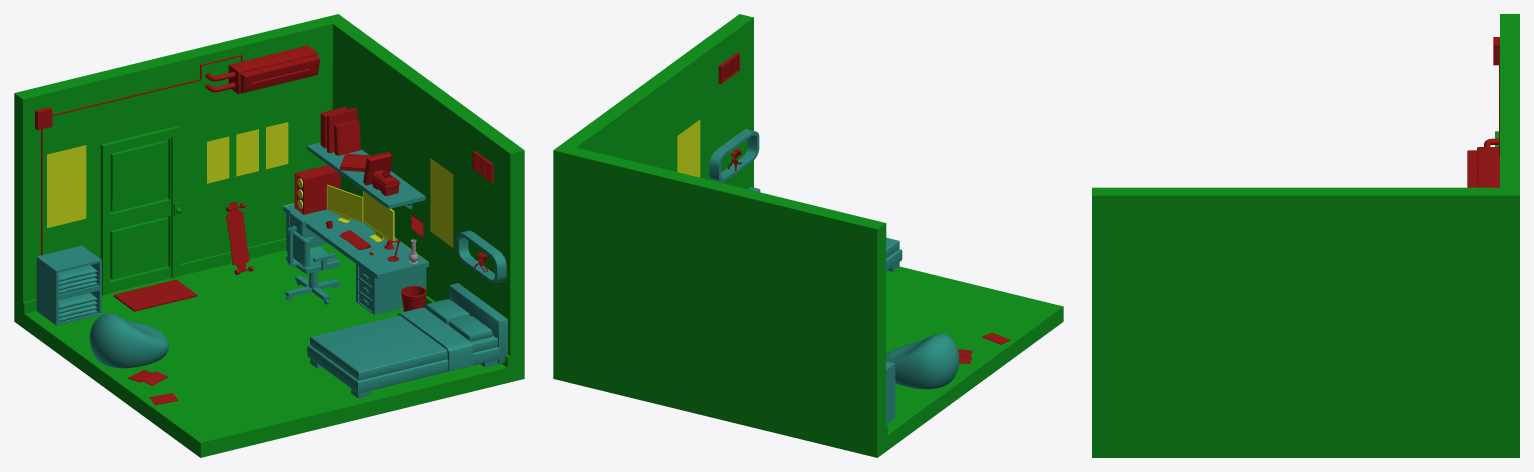
File: Room.FBX
3 views of the same model, side by side, from view 1: azimuth 30°, elevation 25°; view 2: azimuth 150°, elevation 25°; view 3: azimuth 270°, elevation 25° (orthographic). The views are drawn at different scales.
Visible parts, largest first — view 1: Plane001, Box010, Box012, Plane007; view 2: Plane001, Box010, Plane007, Box012; view 3: Plane001, Box012.
Boxes of the visible parts, x1,y1,x2,y2 form: Plane001: (14, 14, 524, 457); Box010: (36, 142, 507, 398); Box012: (35, 45, 493, 405); Plane007: (47, 122, 506, 280); Plane001: (553, 14, 1063, 457); Box010: (709, 129, 959, 424); Plane007: (677, 119, 747, 178); Box012: (718, 52, 1010, 363); Plane001: (1092, 14, 1519, 457); Box012: (1467, 37, 1499, 187).
Size of the model in its own units: 103 by 69.66 by 103.
